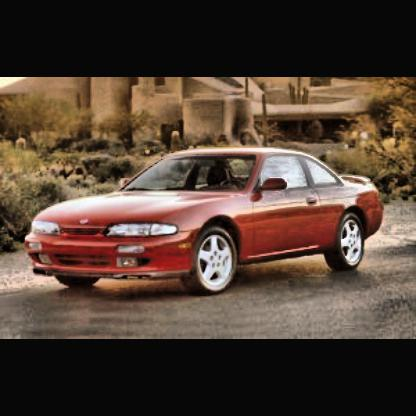Nissan 240SX Coupe 1998: (26, 146, 389, 301)
